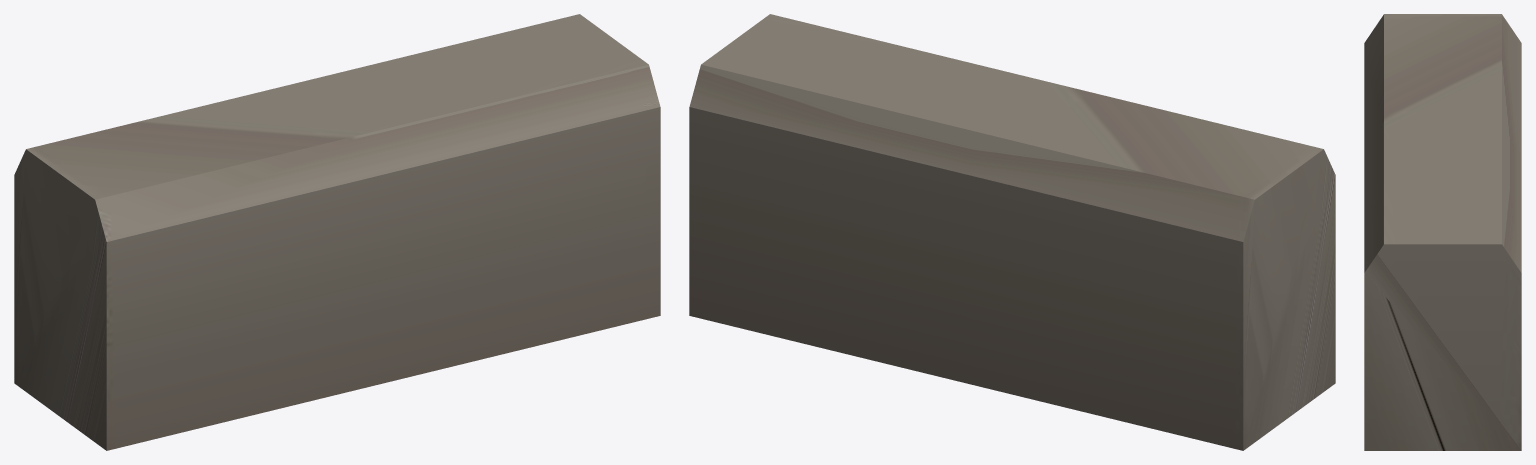
Rendered from fence_stone_block_low.glb.
The picture shows the model from 3 angles, left to right: view 1: azimuth 30°, elevation 25°; view 2: azimuth 150°, elevation 25°; view 3: azimuth 270°, elevation 25°; orthographic projection. The views are drawn at different scales.
Parts seen in each view (by area): view 1: fence_stone_block_low; view 2: fence_stone_block_low; view 3: fence_stone_block_low.
Boxes of the visible parts, bbox=[...] form: fence_stone_block_low: bbox=[14, 14, 660, 450]; fence_stone_block_low: bbox=[689, 14, 1335, 450]; fence_stone_block_low: bbox=[1364, 14, 1521, 450].
Size of the model in its own units: 1.11 by 0.465 by 0.32.
Materials: 1 (1 with a texture image).
